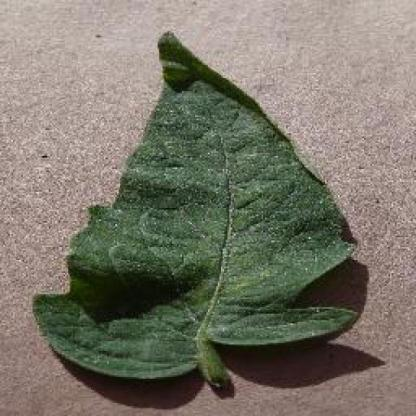Tomato_Spider_Mites: (34, 33, 358, 375)
